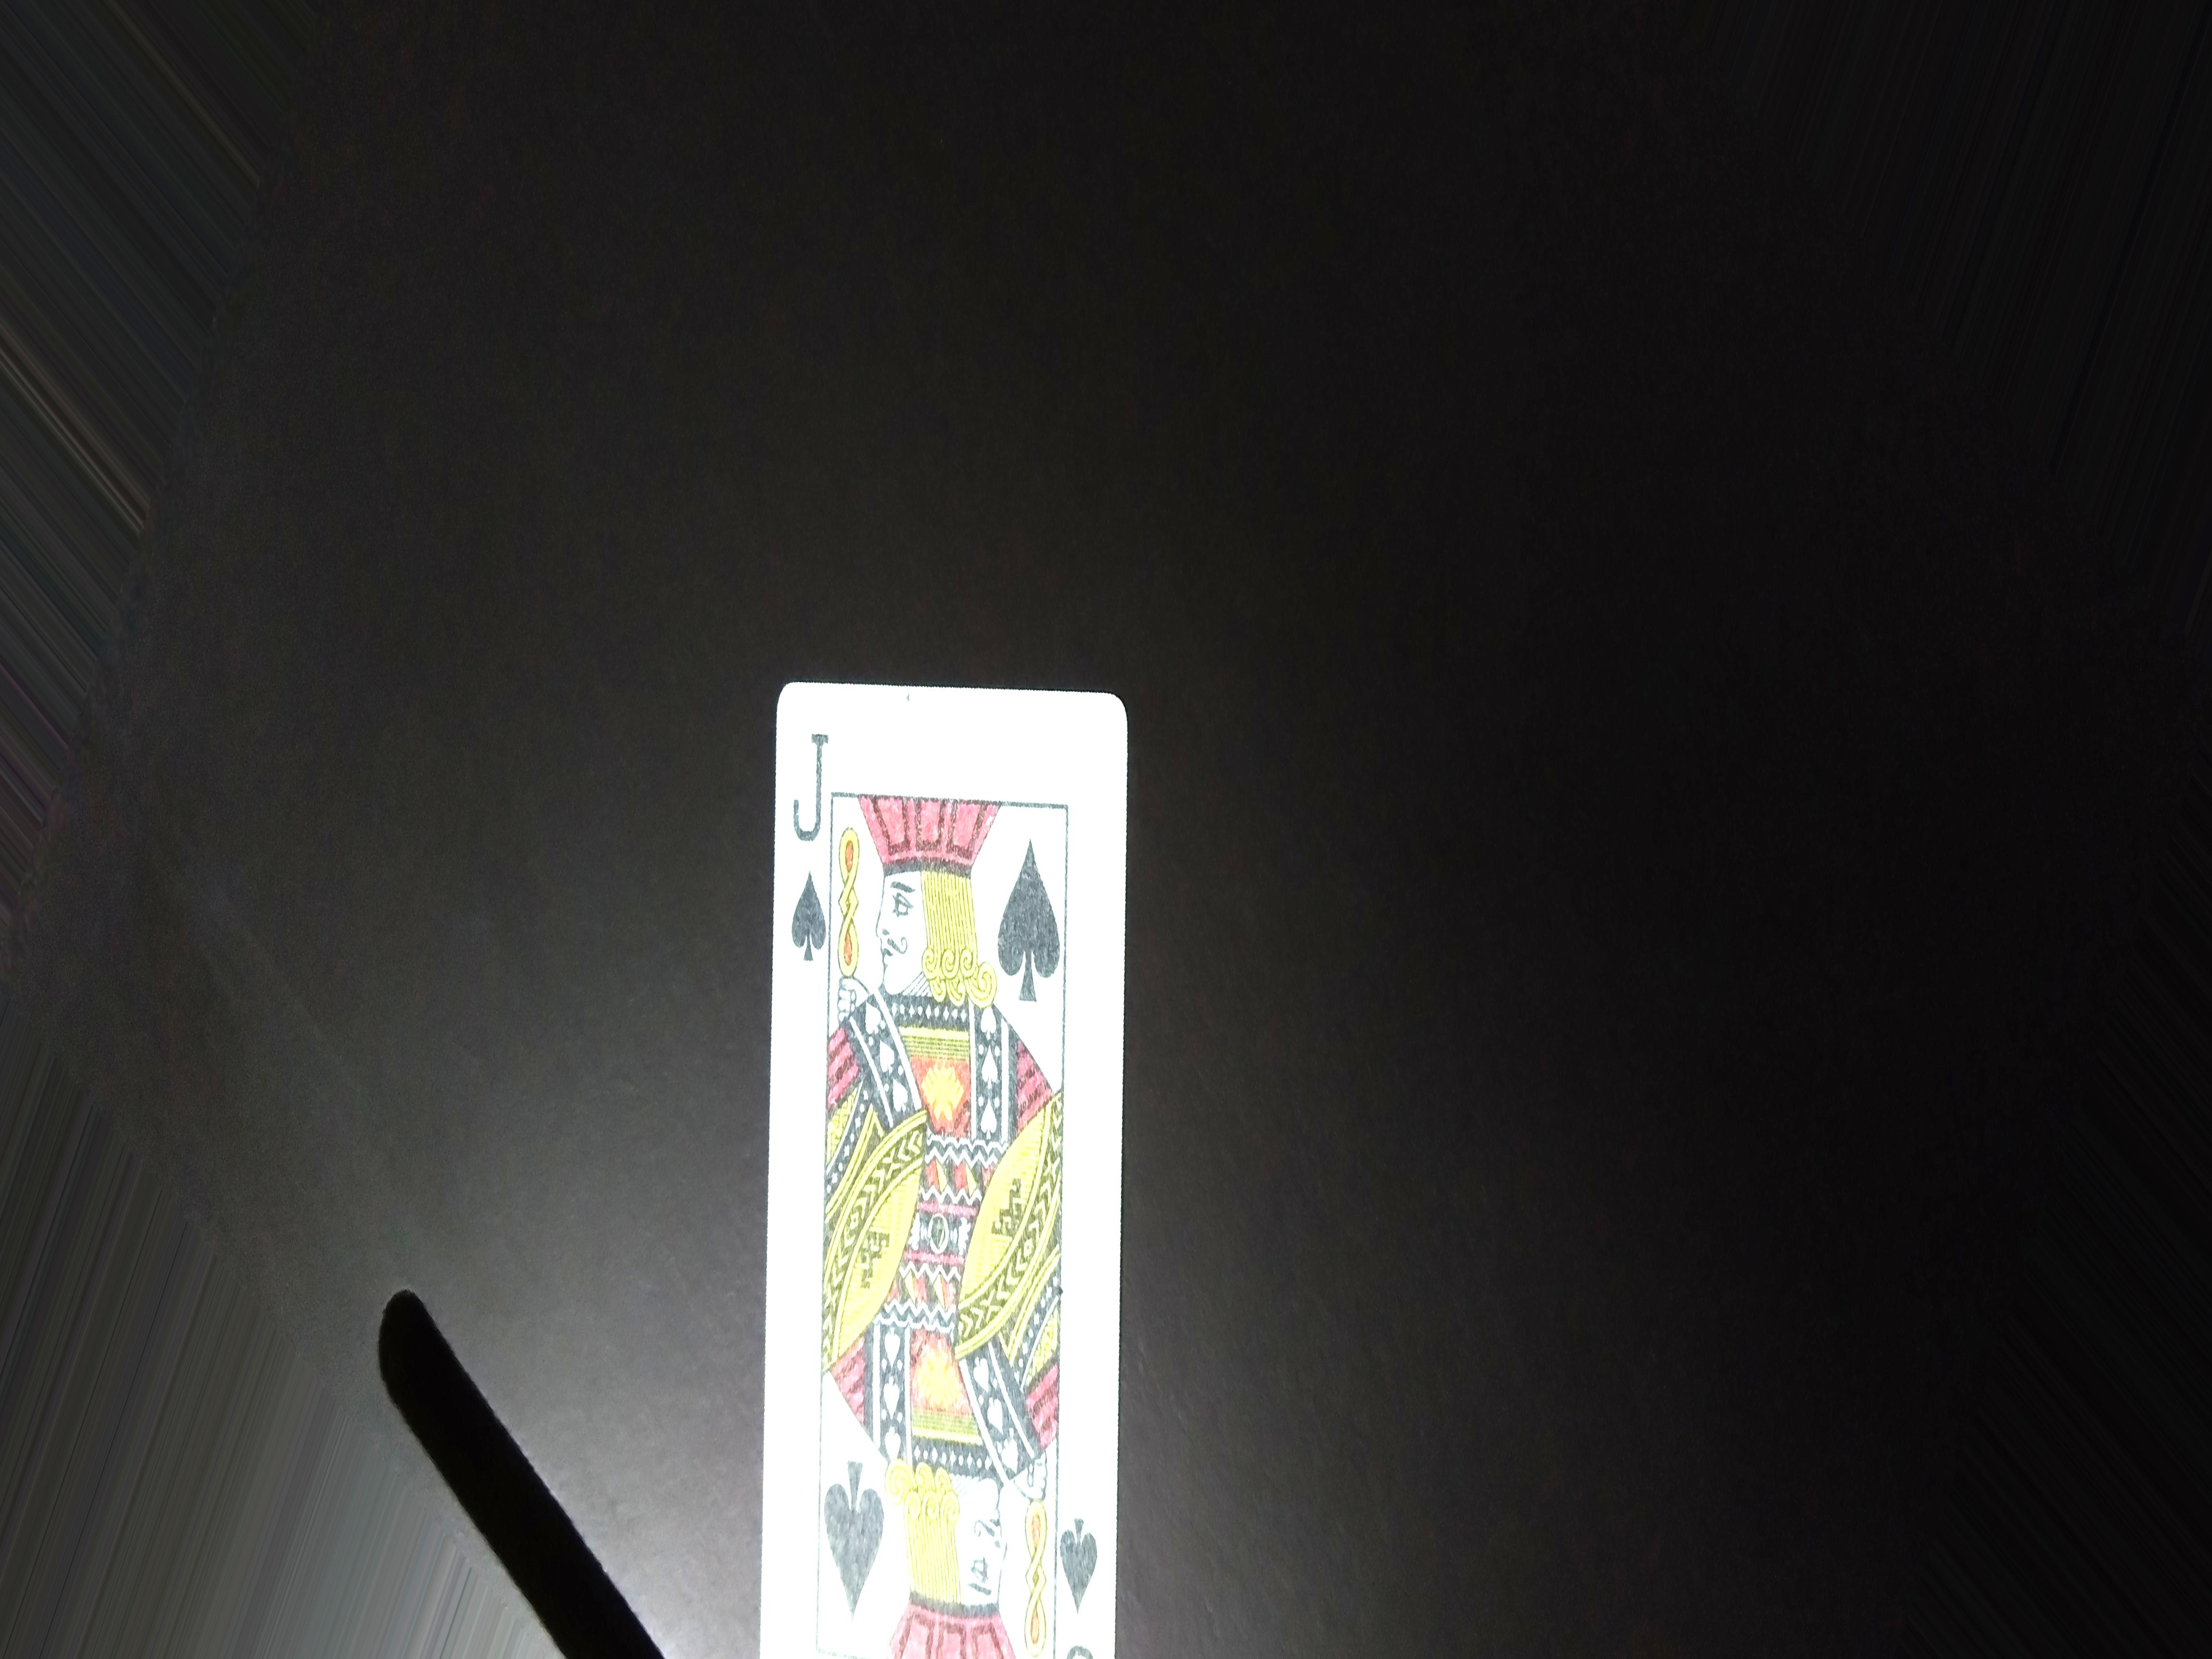JS: (794, 704, 833, 985)
